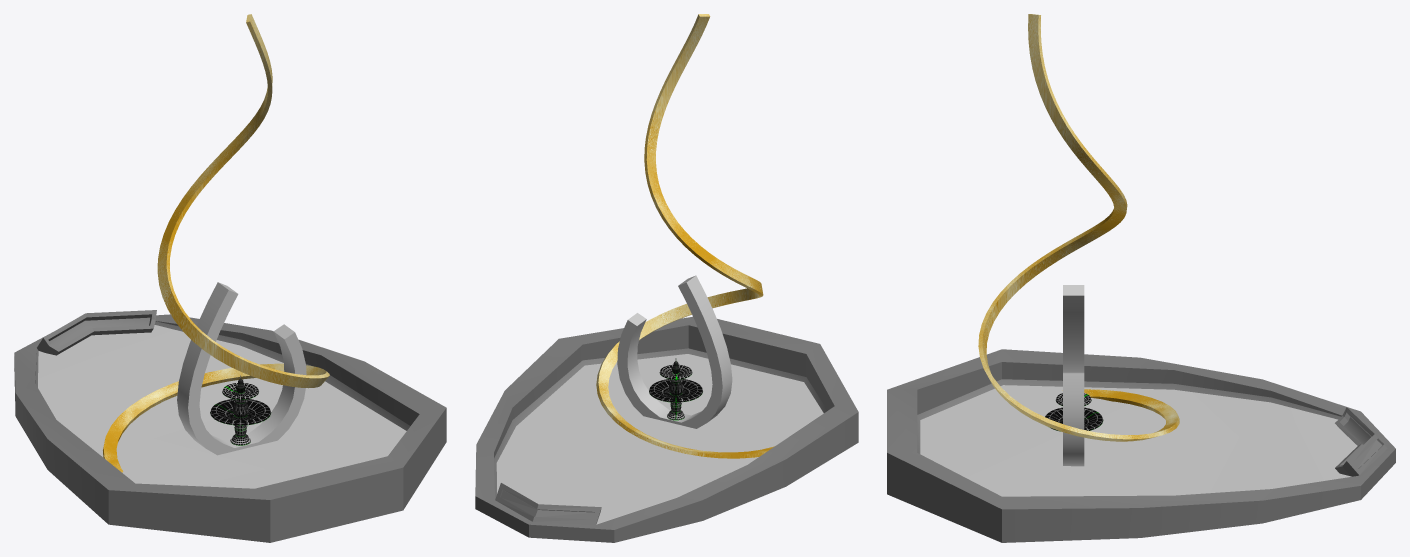
Rendered from fountain.fbx.
3 renders of one model, left to right at view 1: azimuth 30°, elevation 25°; view 2: azimuth 150°, elevation 25°; view 3: azimuth 270°, elevation 25°, orthographic. The views are drawn at different scales.
Parts seen in each view (by area): view 1: Egg001, Line003, Helix001, Arc001, Line002; view 2: Line003, Egg001, Helix001, Arc001, Line002; view 3: Egg001, Line003, Helix001, Arc001, Line002.
Boxes of the visible parts, x1,y1,x2,y2 form: Egg001: [14, 310, 446, 542]; Line003: [38, 325, 406, 488]; Helix001: [103, 14, 329, 472]; Arc001: [177, 282, 306, 455]; Line002: [210, 375, 271, 445]; Line003: [496, 354, 823, 524]; Egg001: [475, 316, 858, 542]; Helix001: [596, 14, 774, 458]; Arc001: [617, 275, 732, 428]; Line002: [649, 358, 702, 420]; Egg001: [887, 349, 1395, 542]; Line003: [920, 385, 1357, 496]; Helix001: [978, 14, 1179, 441]; Arc001: [1063, 285, 1084, 466]; Line002: [1045, 393, 1103, 431].
Bounding box in the file's own units: 350 × 452 × 470.
